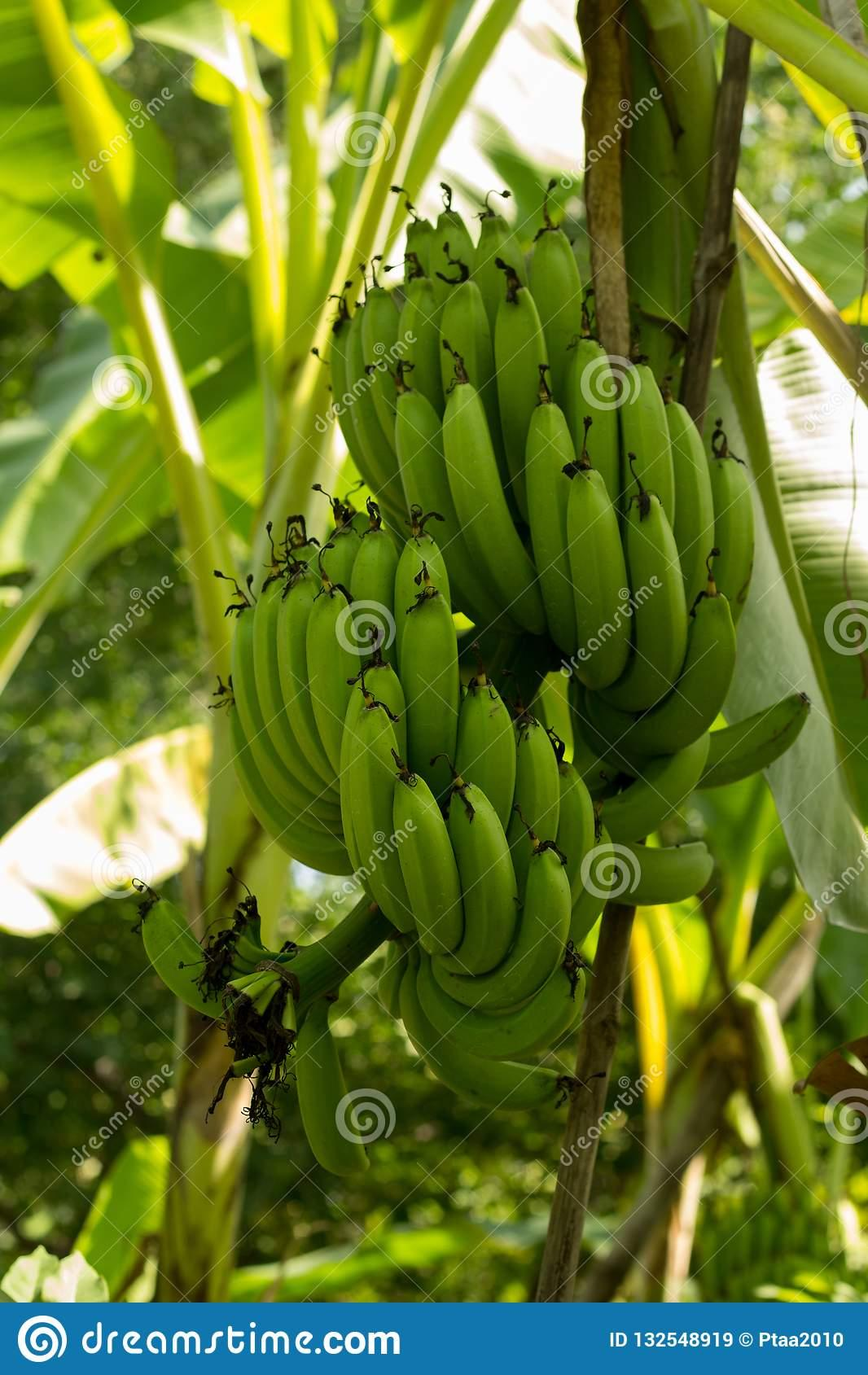Banana Unripe: (102, 147, 794, 1233)
